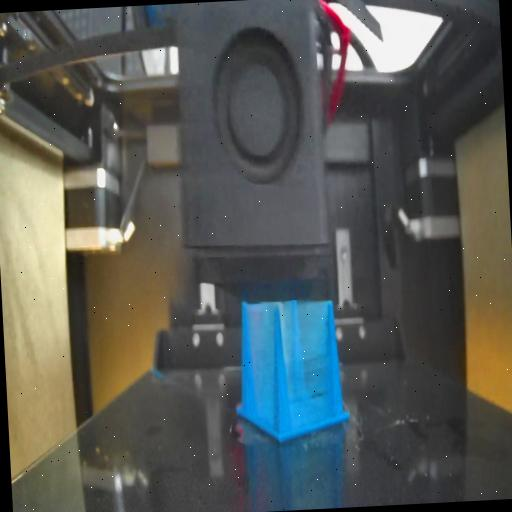stringing: (279, 300, 337, 433), (243, 302, 280, 436)
